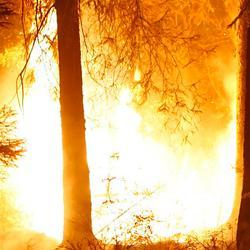fire: (96, 159, 229, 229), (17, 106, 61, 225)
